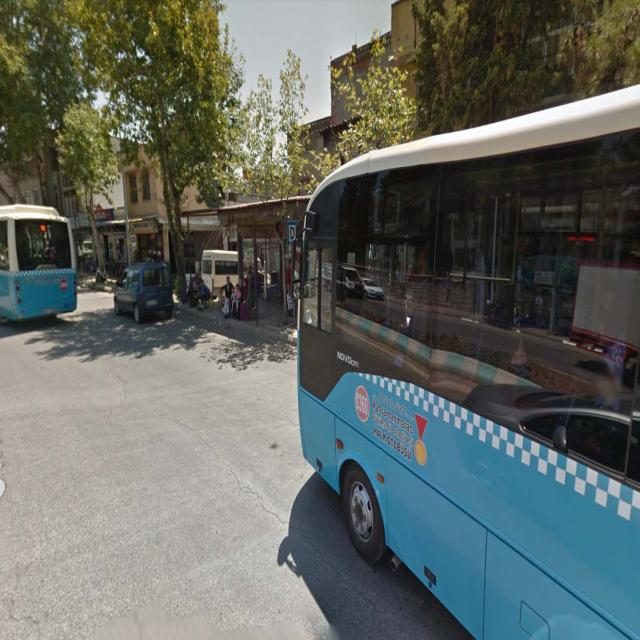durak: (288, 222, 298, 243)
